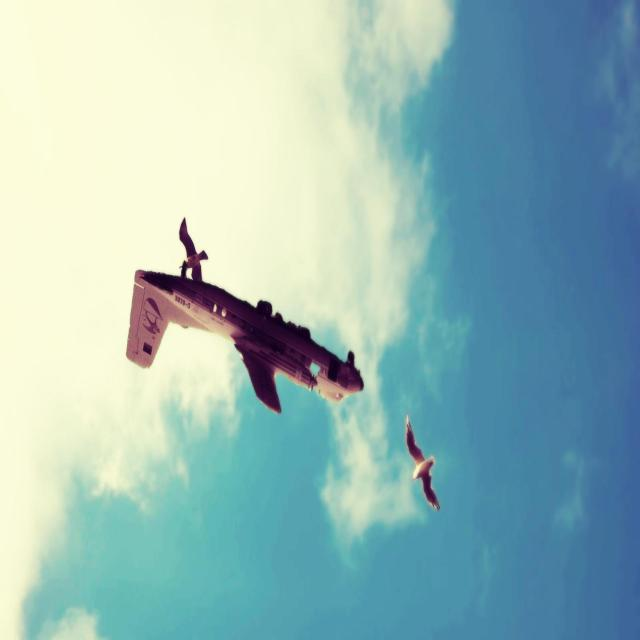airplane: (125, 216, 364, 414)
